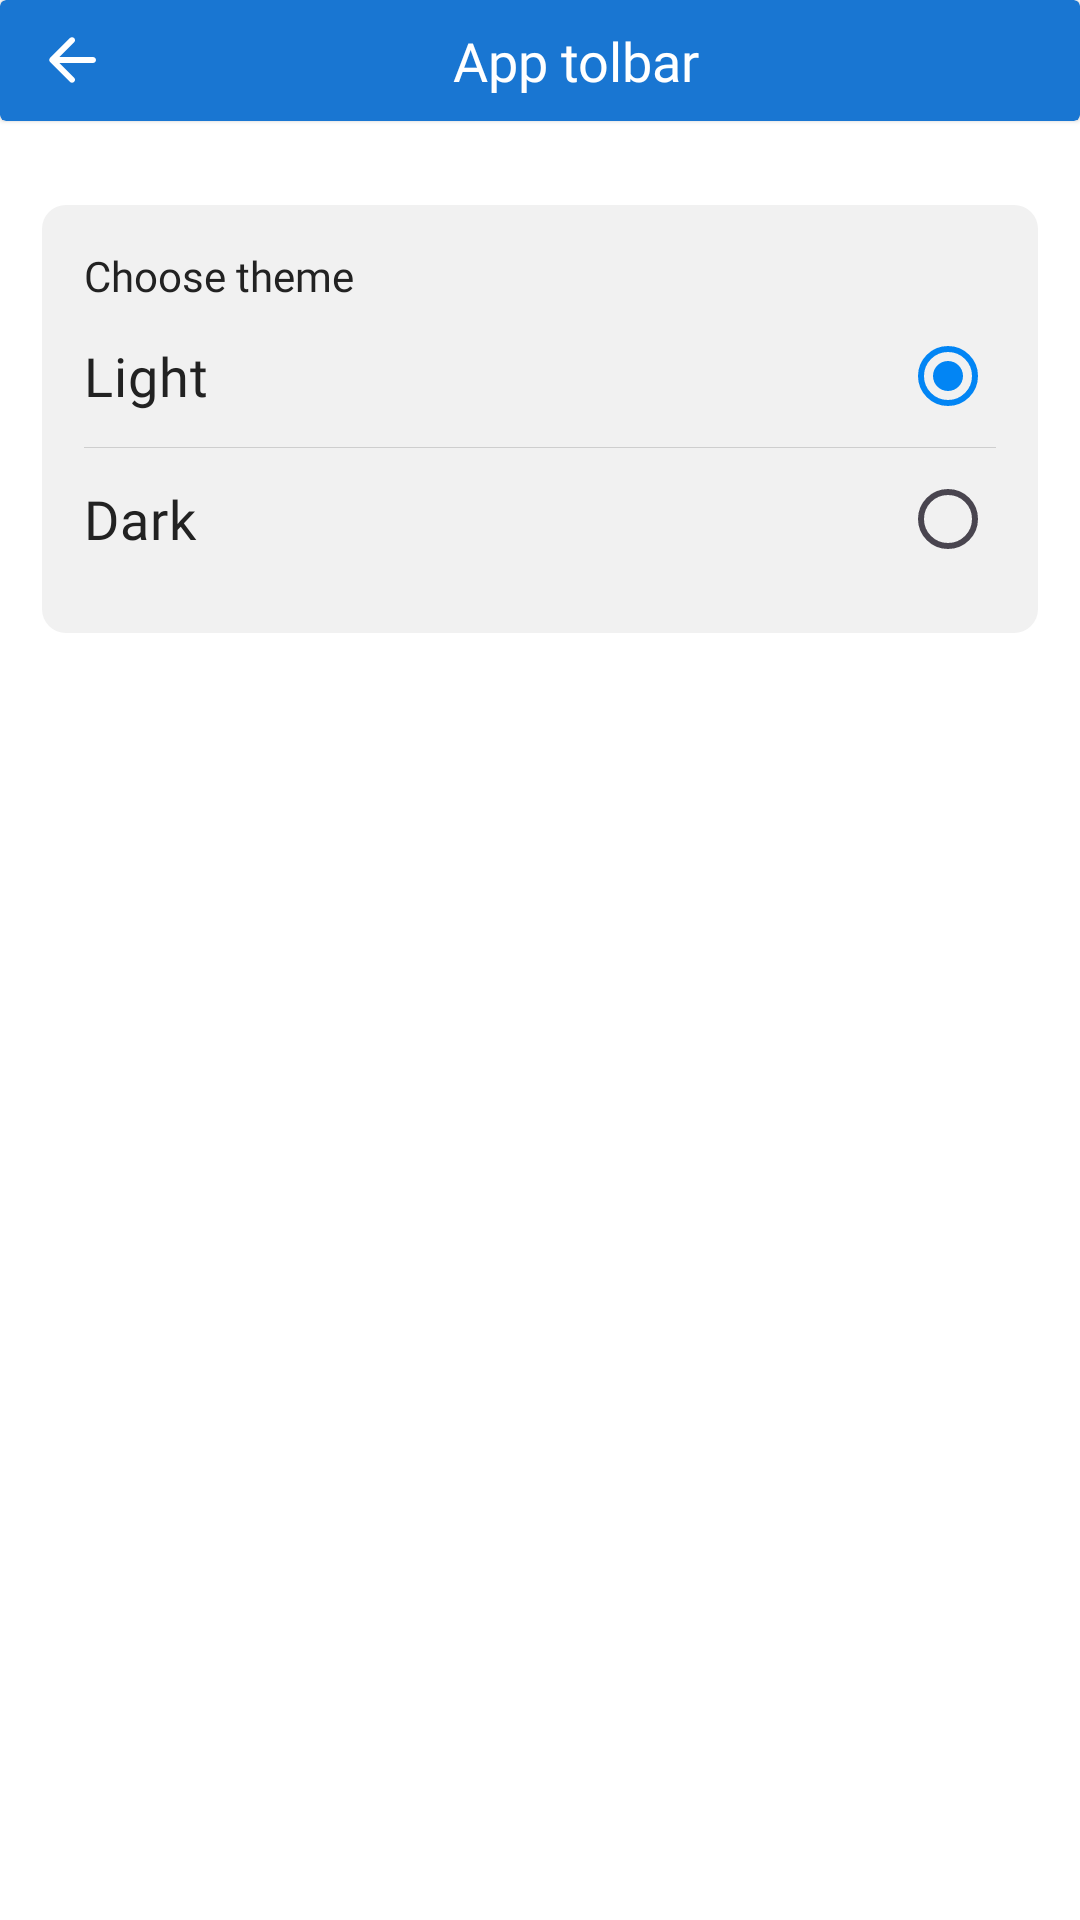

Locate icon controls on the screen. Image size 1080px×1920px, boxes as (x1, y1, x2, y2).
back: (49, 37, 96, 83)
